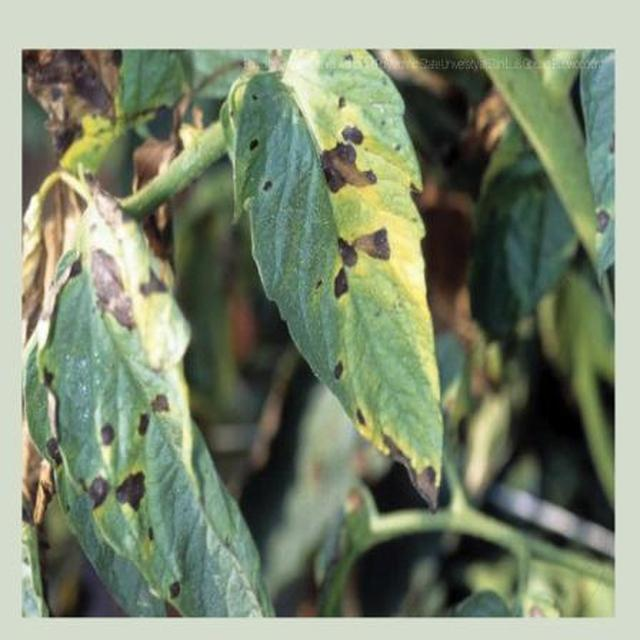Early Blight Leaf: (221, 404, 484, 640)
